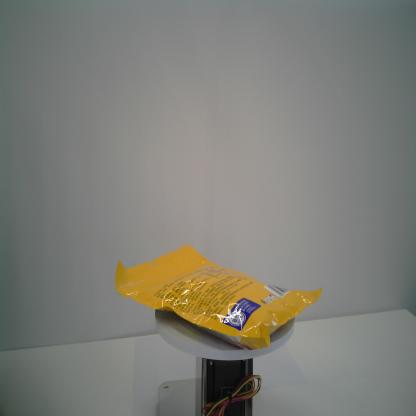Dried Fruit: (115, 244, 323, 349)
